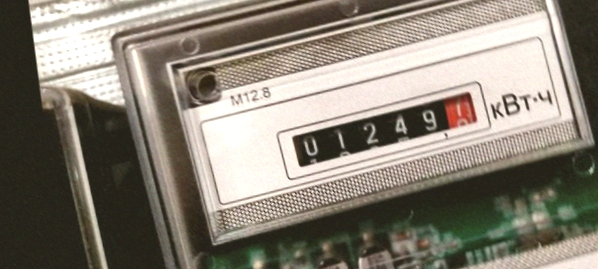0: (297, 130, 319, 158)
1: (329, 125, 347, 152)
2: (358, 119, 382, 147)
4: (389, 109, 411, 138)
7: (448, 94, 466, 120)
9: (418, 105, 439, 133)
screen: (266, 81, 507, 186)
